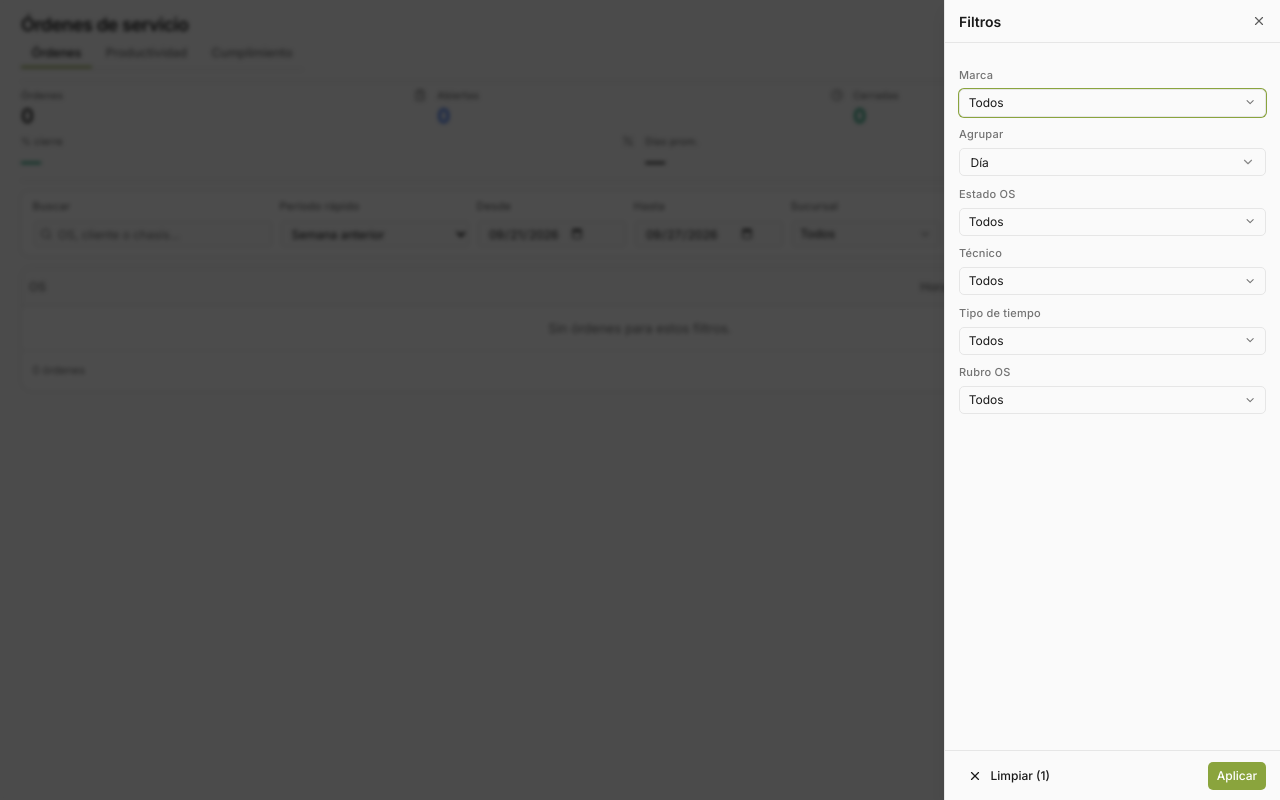
Scenario: orders workspace › clears a quick period back to Paraguay's default day at 390 px
Earlier steps of the test are not shown.
Step 1. Click the button "Limpiar (1)" → x=1009, y=776, box top-left (959, 762), bottom-right (1059, 790)
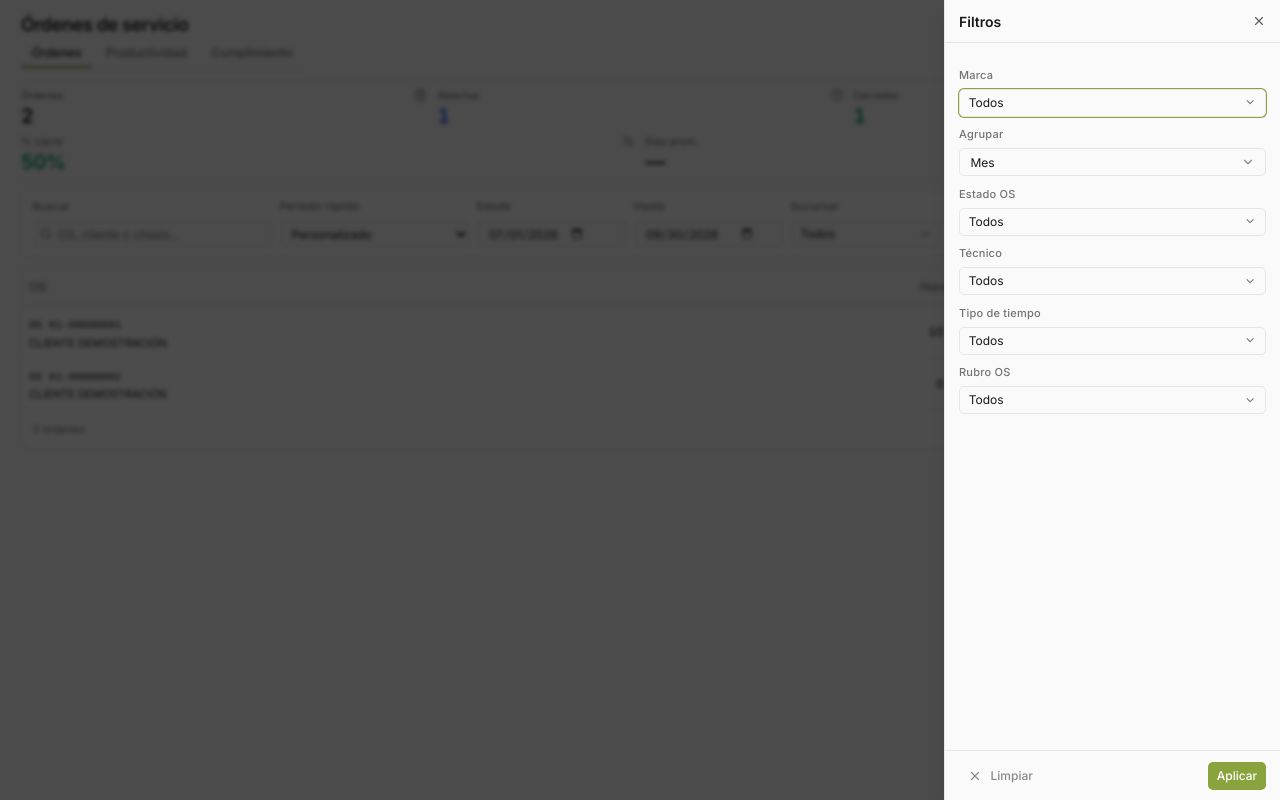
Expected: the element that starts with "Marca" holds "2026-07-01", top-left (959, 68), bottom-right (1266, 414)
Expected: the element that starts with "Marca" holds "2026-09-30", top-left (959, 68), bottom-right (1266, 414)
Expected: the button "Limpiar" is disabled, top-left (959, 762), bottom-right (1042, 790)
